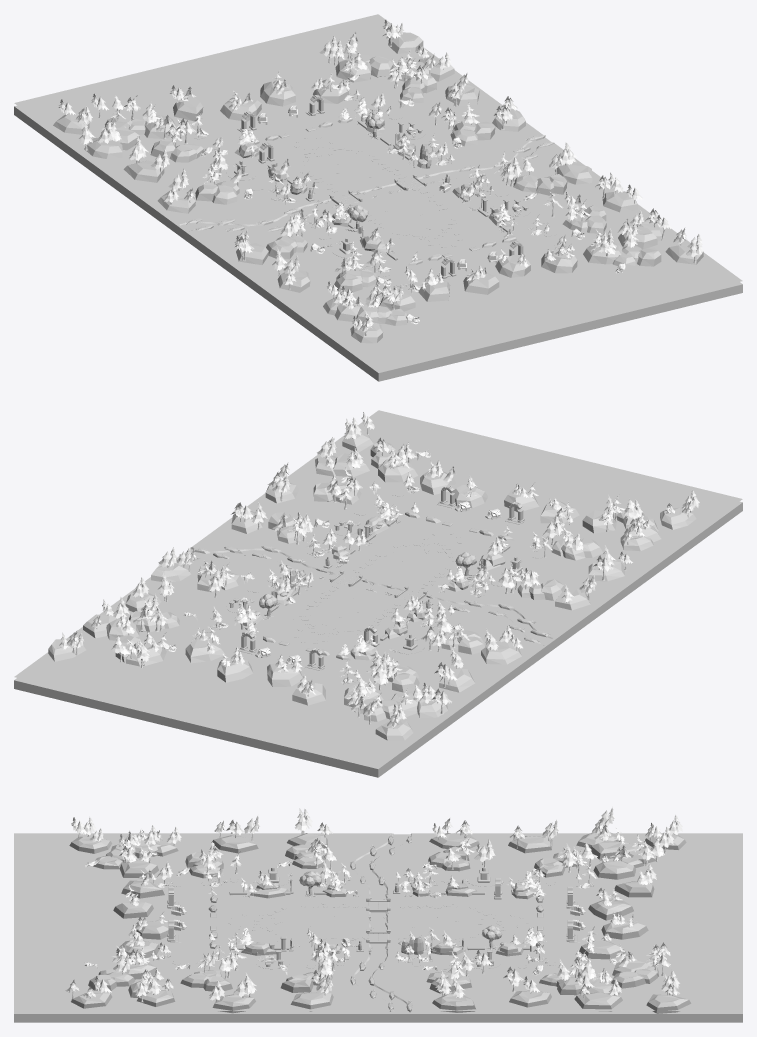
File: rift-terrain.glb
The picture shows the model from 3 angles, top to bottom: view 1: azimuth 30°, elevation 25°; view 2: azimuth 150°, elevation 25°; view 3: azimuth 270°, elevation 25°; orthographic projection.
Visible parts, largest first — view 1: object 1, object 10; view 2: object 1, object 10; view 3: object 1, object 10.
Boxes of the visible parts, x1,y1,x2,y2 form: object 1: (14, 14, 742, 381); object 10: (58, 20, 703, 335); object 1: (14, 410, 742, 777); object 10: (59, 412, 699, 728); object 1: (14, 832, 742, 1022); object 10: (65, 806, 682, 1002).
Size of the model in its own units: 63.12 by 6.87 by 107.
5 materials, 4 textured.
